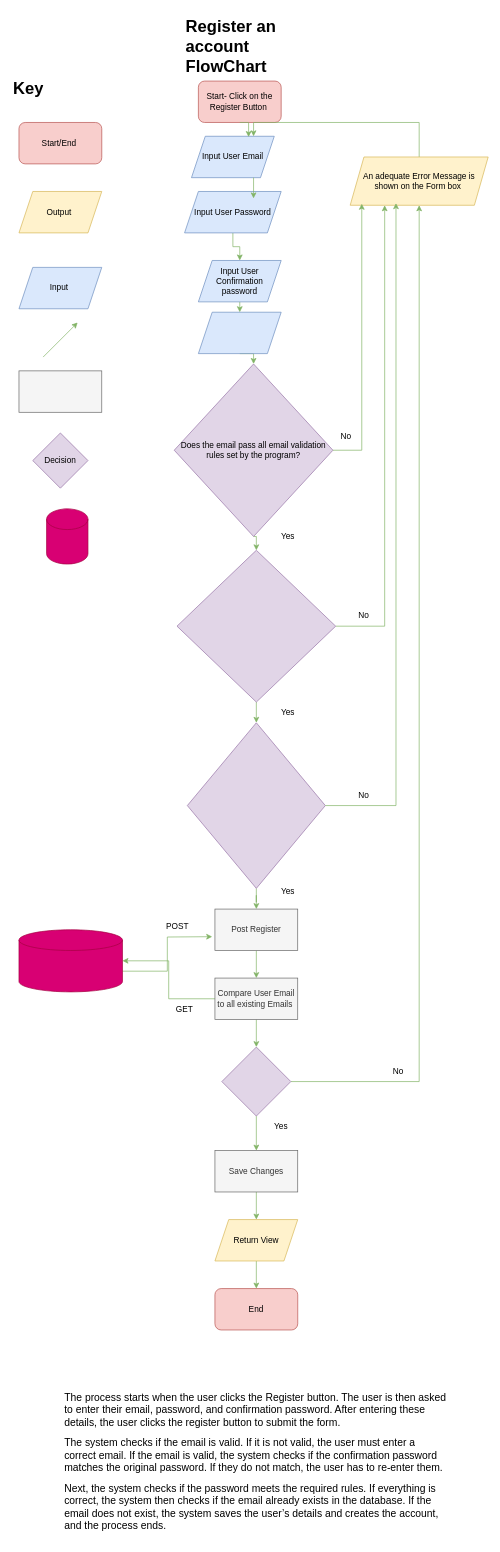
This 500x1552 diagram has some shape labels left out. The box of each missing label's shape, as (x1, y1, x2, y2) in pixels:
ApplicationDbContext: (18, 929, 122, 992)
Click the Register Button: (198, 312, 281, 354)
Data Base: (46, 508, 88, 564)
Does Email already exists: (221, 1046, 291, 1116)
Does the password match the original password entered?: (176, 550, 336, 702)
Does the password pass all password validation rules set by the program?: (187, 722, 325, 888)
Process: (18, 370, 102, 412)
